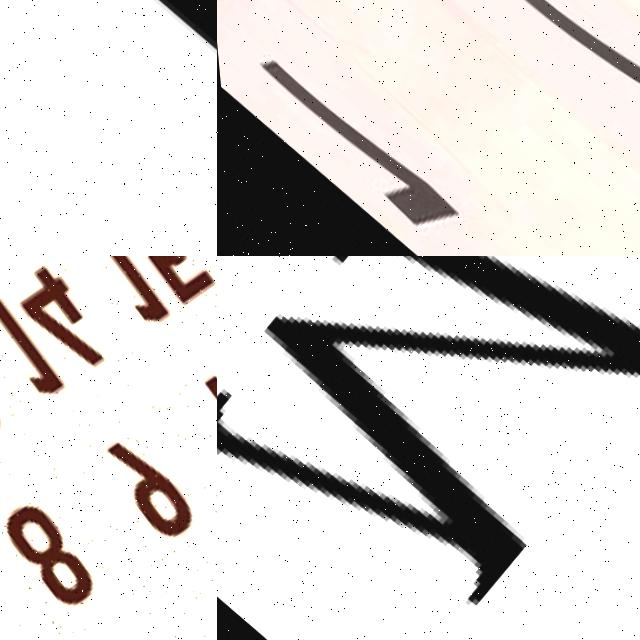0: (194, 321, 217, 466)
1: (0, 284, 86, 411), (57, 256, 190, 333), (162, 357, 217, 489)
4: (0, 256, 134, 388)
5: (90, 256, 217, 315)
7: (232, 41, 461, 246), (499, 0, 640, 156)
8: (0, 483, 116, 624)
9: (68, 416, 217, 554)
J: (0, 0, 217, 256)
M: (217, 256, 640, 640)
